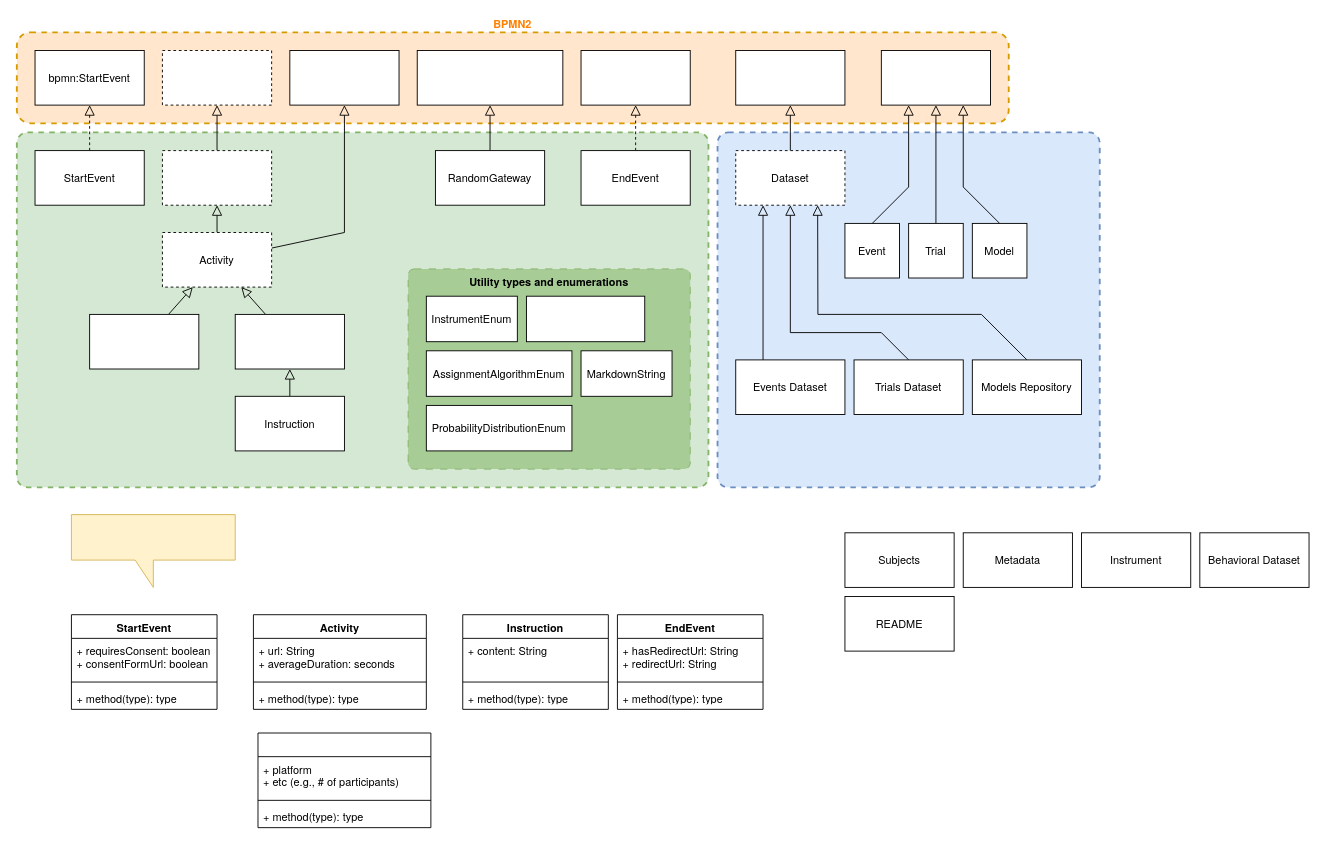
This 1325x845 diagram has some shape labels left out. The box of each missing label's shape, as (x1, y1, x2, y2) in pixels:
BDM: (716, 131, 1100, 488)
BehaverseTaskEnum: (526, 295, 645, 342)
bpmn2:ExclusiveGateway: (416, 50, 563, 105)
bpmn:BaseElement: (162, 50, 272, 105)
bpmn:DataObject: (880, 50, 991, 105)
bpmn:DataStore: (735, 50, 845, 105)
bpmn:EndEvent: (580, 50, 690, 105)
bpmn:Task: (289, 50, 399, 105)
CognitiveTest: (89, 313, 199, 369)
Element: (162, 150, 272, 205)
Questionnaire: (234, 313, 344, 369)
Recruitment: (257, 732, 431, 828)
StudyFlow: (15, 131, 709, 488)
TODO: fields and types: (71, 514, 235, 587)
